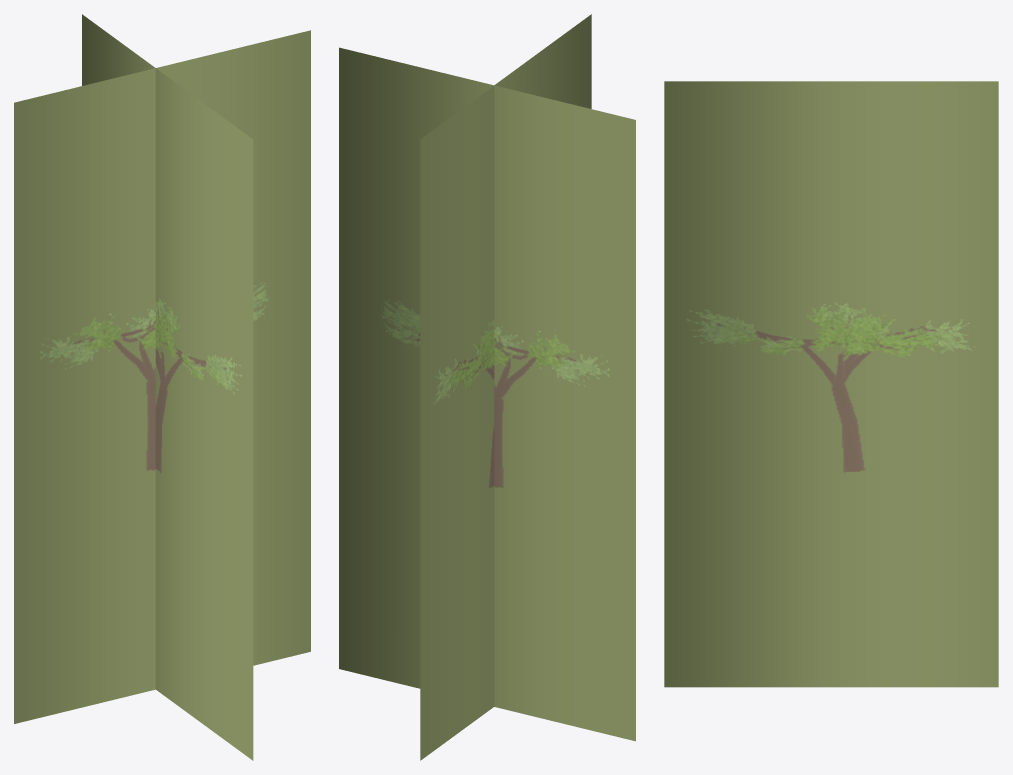
The model's file is acacia_2_far.glb.
3 views of the same model, side by side, from view 1: azimuth 30°, elevation 25°; view 2: azimuth 150°, elevation 25°; view 3: azimuth 270°, elevation 25° (orthographic). The views are drawn at different scales.
Visible parts, largest first — view 1: acacia_2_far; view 2: acacia_2_far; view 3: acacia_2_far.
Part boxes in pixels (left/top/right/bottom): acacia_2_far: left=14, top=14, right=310, bottom=760; acacia_2_far: left=339, top=14, right=635, bottom=760; acacia_2_far: left=664, top=81, right=998, bottom=687.
Size of the model in its own units: 10.04 by 20.09 by 10.04.
1 material, 1 textured.
